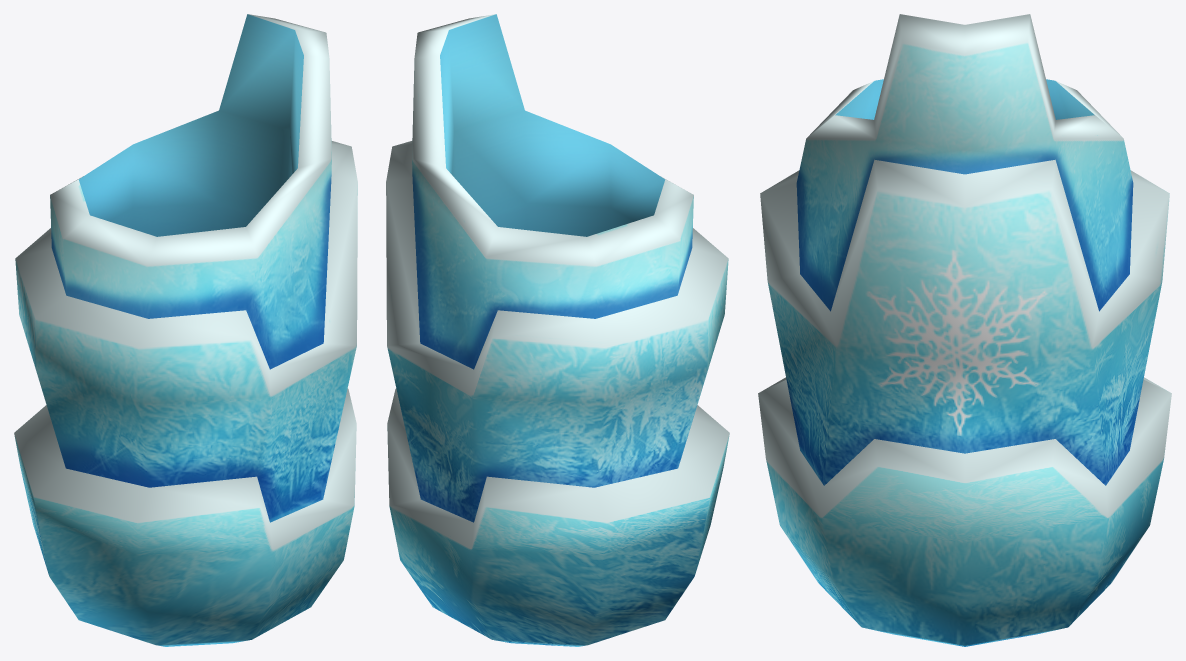
Rendered from Frost gauntlet.fbx.
3 renders of one model, left to right at view 1: azimuth 30°, elevation 25°; view 2: azimuth 150°, elevation 25°; view 3: azimuth 270°, elevation 25°, orthographic. The views are drawn at different scales.
Visible parts, largest first — view 1: Cube; view 2: Cube; view 3: Cube.
Part boxes in pixels (x1,y1,x2,y2): Cube: [14, 14, 357, 646]; Cube: [386, 14, 729, 646]; Cube: [758, 14, 1171, 646].
Size of the model in its own units: 21.59 by 36.02 by 21.14.
